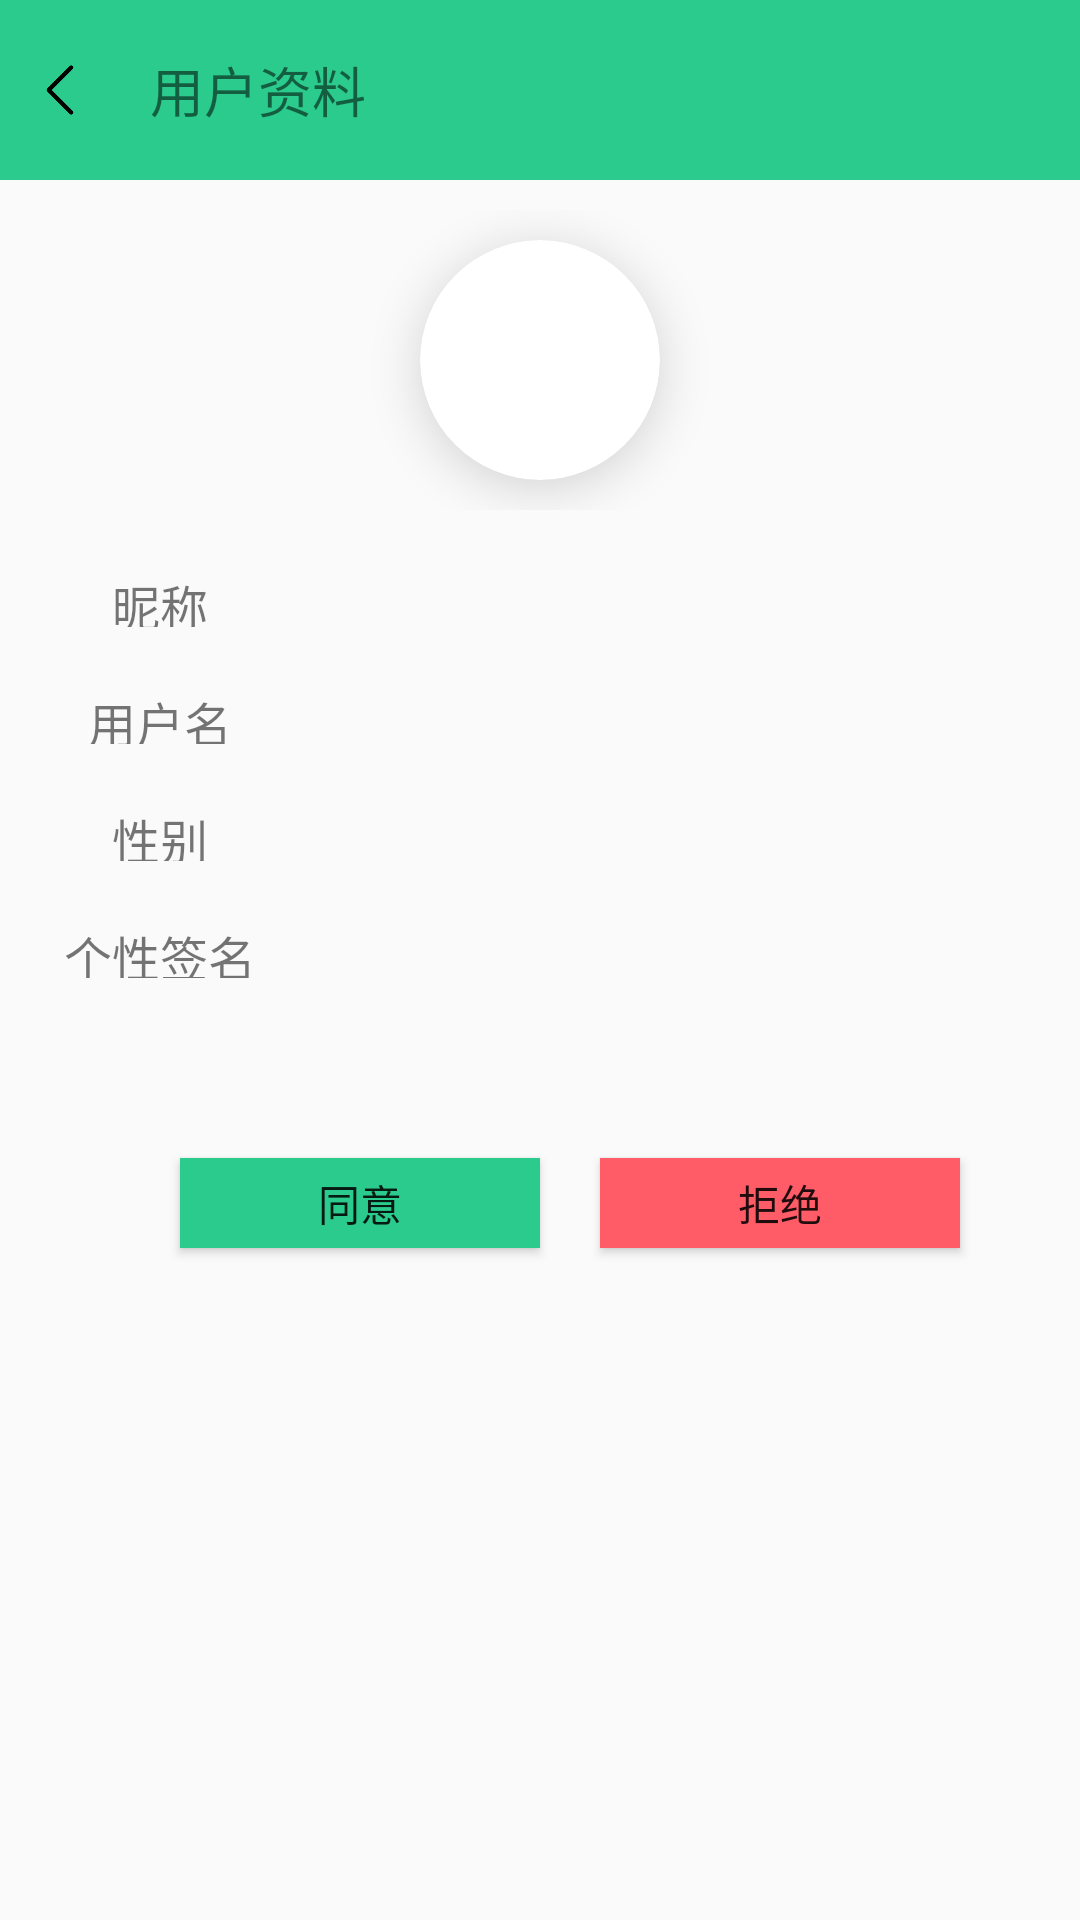

Where to tap for icons on this 1080*1920 app screen, as [x,y]:
arrow left: [60,90]
